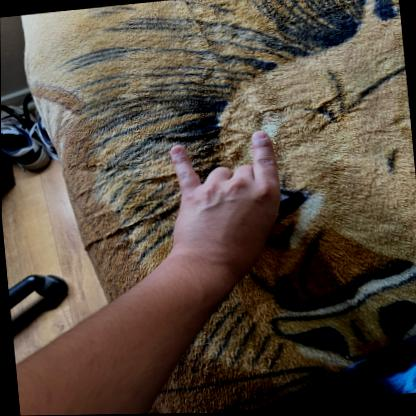U: (156, 128, 295, 280)
